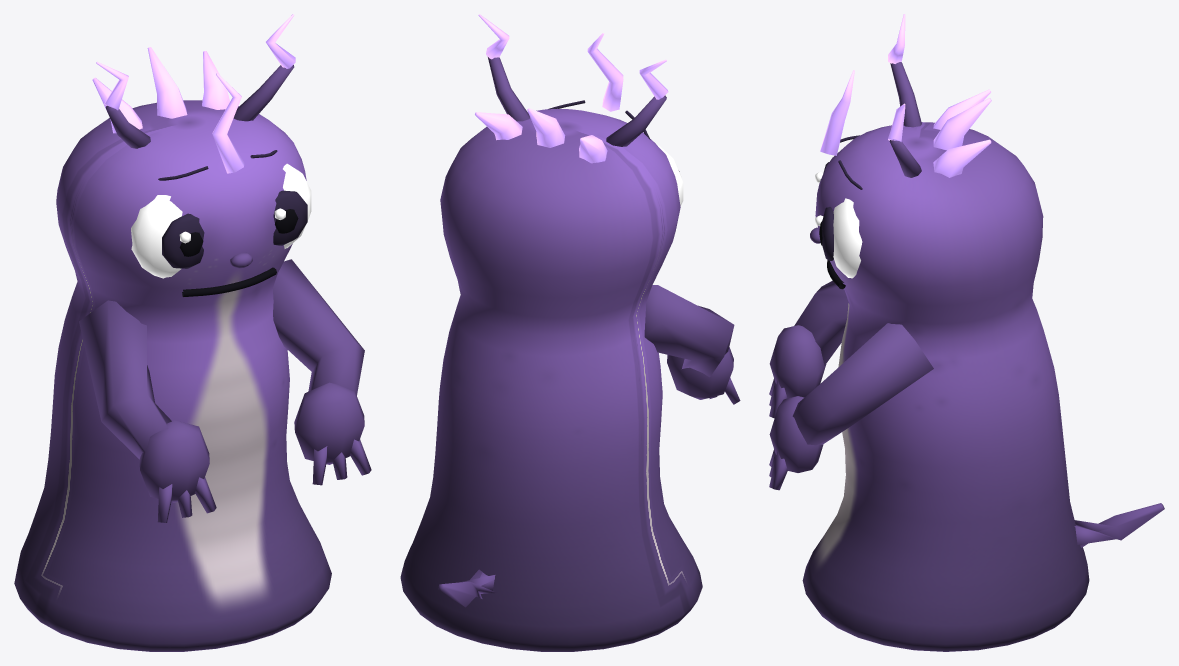
File: vacio_pixar.glb
The picture shows the model from 3 angles, left to right: view 1: azimuth 30°, elevation 25°; view 2: azimuth 150°, elevation 25°; view 3: azimuth 270°, elevation 25°; orthographic projection. The views are drawn at different scales.
Parts seen in each view (by area): view 1: vacio_cuerpo; view 2: vacio_cuerpo; view 3: vacio_cuerpo.
Boxes of the visible parts, left/top/right/bottom form: vacio_cuerpo: left=14, top=14, right=371, bottom=651; vacio_cuerpo: left=400, top=14, right=740, bottom=651; vacio_cuerpo: left=769, top=14, right=1164, bottom=651.
Size of the model in its own units: 0.2973 by 0.58 by 0.3905.
5 materials, 1 textured.
